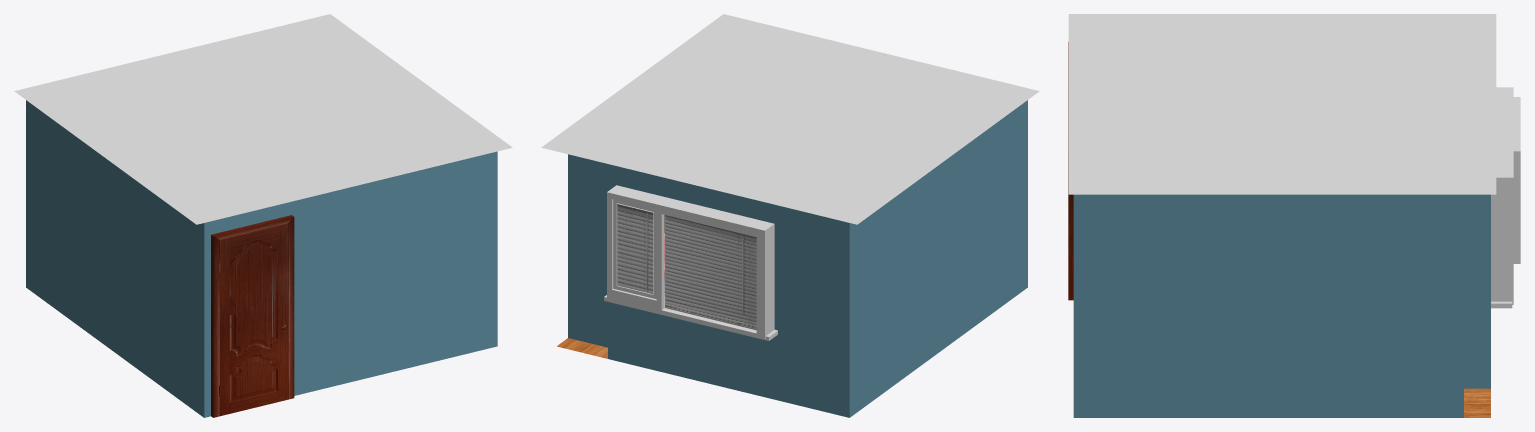
File: Flat.fbx
The picture shows the model from 3 angles, left to right: view 1: azimuth 30°, elevation 25°; view 2: azimuth 150°, elevation 25°; view 3: azimuth 270°, elevation 25°; orthographic projection. The views are drawn at different scales.
Visible parts, largest first — view 1: Room, Plane, Door; view 2: Room, Plane, JaluziBig, JaluziSmall; view 3: Room, Plane, Door.
Boxes of the visible parts, box(x1,y1,x2,y2) form: Room: box(26, 100, 497, 417); Plane: box(14, 14, 512, 224); Door: box(211, 215, 294, 417); Room: box(557, 100, 1027, 417); Plane: box(541, 14, 1039, 224); JaluziBig: box(665, 215, 756, 330); JaluziSmall: box(617, 204, 653, 293); Room: box(1073, 87, 1520, 417); Plane: box(1068, 14, 1496, 194); Door: box(1068, 42, 1073, 300).
Bounding box in the file's own units: 418 × 249 × 442.
